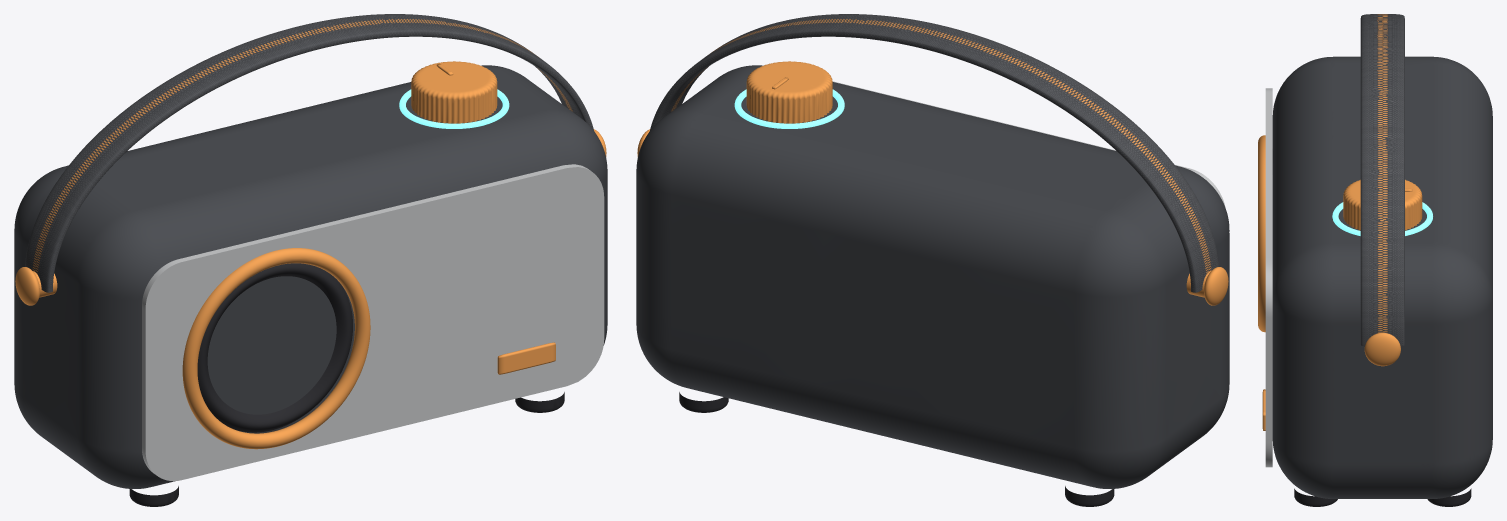
Rendered from pulse-speaker.low-power.glb.
The picture shows the model from 3 angles, left to right: view 1: azimuth 30°, elevation 25°; view 2: azimuth 150°, elevation 25°; view 3: azimuth 270°, elevation 25°; orthographic projection. The views are drawn at different scales.
Parts seen in each view (by area): view 1: BodyGeo, GrilleGeo, StrapGeo, DriverRingGeo, DriverGeo, KnobGeo, BadgeGeo, StatusLightGeo, StrapPinLGeo; view 2: BodyGeo, StrapGeo, KnobGeo, StatusLightGeo, StrapPinLGeo; view 3: BodyGeo, StrapGeo, GrilleGeo, DriverRingGeo, KnobGeo, StrapPinRGeo, FootGeo (×2), StatusLightGeo.
Boxes of the visible parts, <box> form: BodyGeo: <box>14,65,607,488</box>; GrilleGeo: <box>142,164,604,481</box>; StrapGeo: <box>25,14,593,292</box>; DriverRingGeo: <box>182,248,370,449</box>; DriverGeo: <box>197,263,352,432</box>; KnobGeo: <box>411,61,497,123</box>; BadgeGeo: <box>497,342,555,374</box>; StatusLightGeo: <box>399,89,509,128</box>; StrapPinLGeo: <box>15,267,57,305</box>; BodyGeo: <box>636,65,1229,488</box>; StrapGeo: <box>650,14,1218,292</box>; KnobGeo: <box>746,61,832,123</box>; StatusLightGeo: <box>734,89,844,128</box>; StrapPinLGeo: <box>1186,267,1228,305</box>; BodyGeo: <box>1272,56,1492,498</box>; StrapGeo: <box>1360,14,1404,346</box>; GrilleGeo: <box>1265,88,1272,467</box>; DriverRingGeo: <box>1258,135,1265,332</box>; KnobGeo: <box>1343,179,1422,230</box>; StrapPinRGeo: <box>1364,332,1400,366</box>; FootGeo (×2): <box>1294,488,1471,506</box>; StatusLightGeo: <box>1332,202,1432,235</box>.
Bounding box in the file's own units: 0.2229 × 0.1436 × 0.0853.
6 materials, 1 textured.
